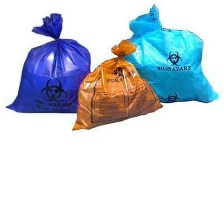plastic_bag: (109, 3, 221, 109), (0, 11, 95, 122), (64, 37, 163, 135)
